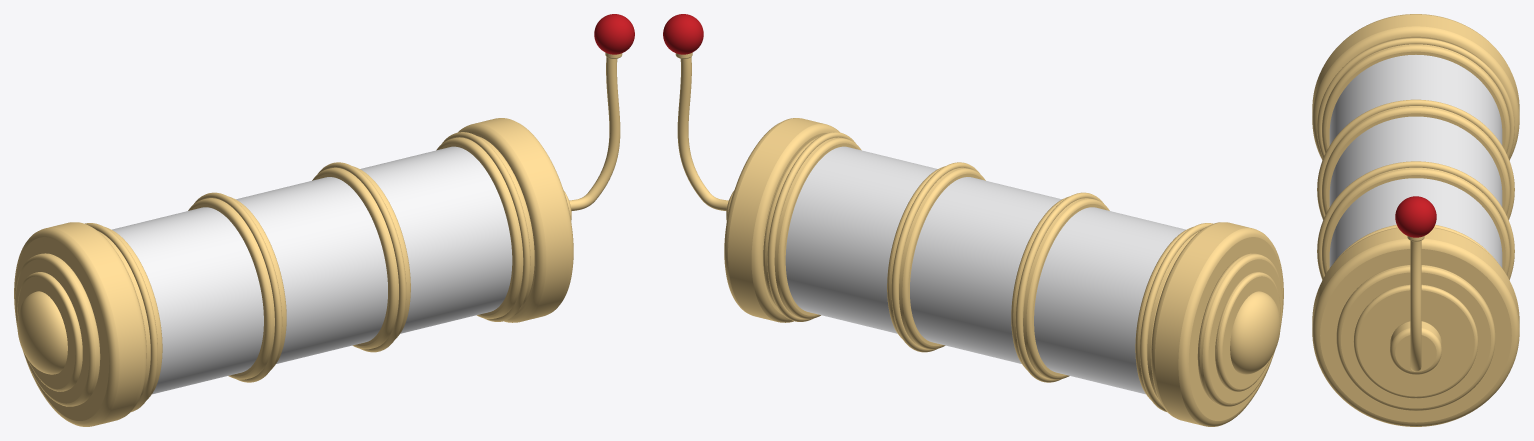
File: slot.glb
3 renders of one model, left to right at view 1: azimuth 30°, elevation 25°; view 2: azimuth 150°, elevation 25°; view 3: azimuth 270°, elevation 25°, orthographic.
Visible parts, largest first — view 1: Reel1, Reel3, Reel2, Cap-1, Cap1, Step-1, Ring1, Ring2, Ring3, Dome, Step2-1, LeverArm (+6 smaller); view 2: Reel1, Reel3, Reel2, Cap-1, Cap1, Step-1, Ring1, Ring2, Ring3, Dome, Step2-1, LeverArm (+6 smaller); view 3: Cap1, Step21, Reel2, Reel1, Step1, Reel3, Cap-1, Ring2, Ring0, Ring1, RingLip0, RingLip1 (+5 smaller).
Boxes of the visible parts, x1=… form: Reel1: x1=112, y1=207, x2=263, y2=394; Reel3: x1=360, y1=146, x2=512, y2=333; Reel2: x1=236, y1=177, x2=387, y2=363; Cap-1: x1=14, y1=222, x2=146, y2=426; Cap1: x1=458, y1=118, x2=573, y2=322; Step-1: x1=15, y1=253, x2=100, y2=406; Ring1: x1=188, y1=196, x2=286, y2=379; Ring2: x1=312, y1=166, x2=410, y2=349; Ring3: x1=436, y1=136, x2=534, y2=318; Dome: x1=17, y1=291, x2=67, y2=374; Step2-1: x1=17, y1=272, x2=82, y2=391; LeverArm: x1=569, y1=57, x2=620, y2=210; Reel1: x1=1034, y1=207, x2=1185, y2=394; Reel3: x1=785, y1=146, x2=937, y2=333; Reel2: x1=910, y1=177, x2=1061, y2=363; Cap-1: x1=1151, y1=222, x2=1283, y2=426; Cap1: x1=724, y1=118, x2=839, y2=322; Step-1: x1=1197, y1=253, x2=1282, y2=406; Ring1: x1=1011, y1=196, x2=1109, y2=379; Ring2: x1=887, y1=166, x2=985, y2=349; Ring3: x1=763, y1=136, x2=861, y2=318; Dome: x1=1230, y1=291, x2=1280, y2=374; Step2-1: x1=1215, y1=272, x2=1280, y2=391; LeverArm: x1=677, y1=57, x2=728, y2=210; Cap1: x1=1312, y1=227, x2=1519, y2=426; Step21: x1=1353, y1=284, x2=1478, y2=398; Reel2: x1=1329, y1=116, x2=1502, y2=206; Reel1: x1=1329, y1=55, x2=1502, y2=145; Step1: x1=1336, y1=265, x2=1495, y2=410; Reel3: x1=1329, y1=178, x2=1502, y2=267; Cap-1: x1=1312, y1=14, x2=1519, y2=160; Ring2: x1=1322, y1=167, x2=1509, y2=275; Ring0: x1=1322, y1=44, x2=1509, y2=153; Ring1: x1=1322, y1=106, x2=1509, y2=215; RingLip0: x1=1317, y1=38, x2=1514, y2=158; RingLip1: x1=1317, y1=99, x2=1514, y2=219.
Size of the model in its own units: 8.25 by 3.52 by 2.4.
